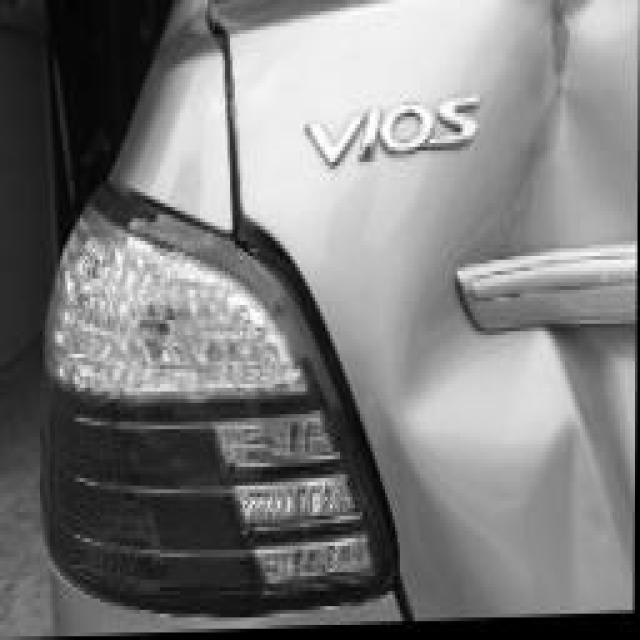Dickey: (302, 0, 639, 618)
